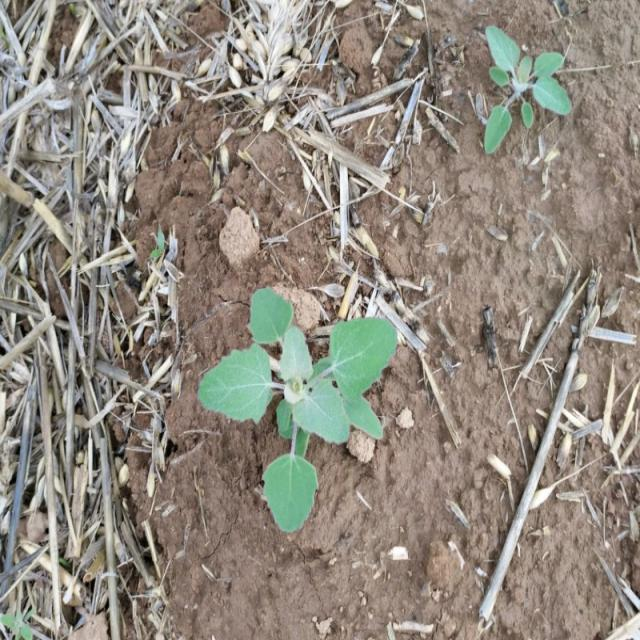goosefoots: (155, 276, 415, 542), (467, 7, 565, 148)
